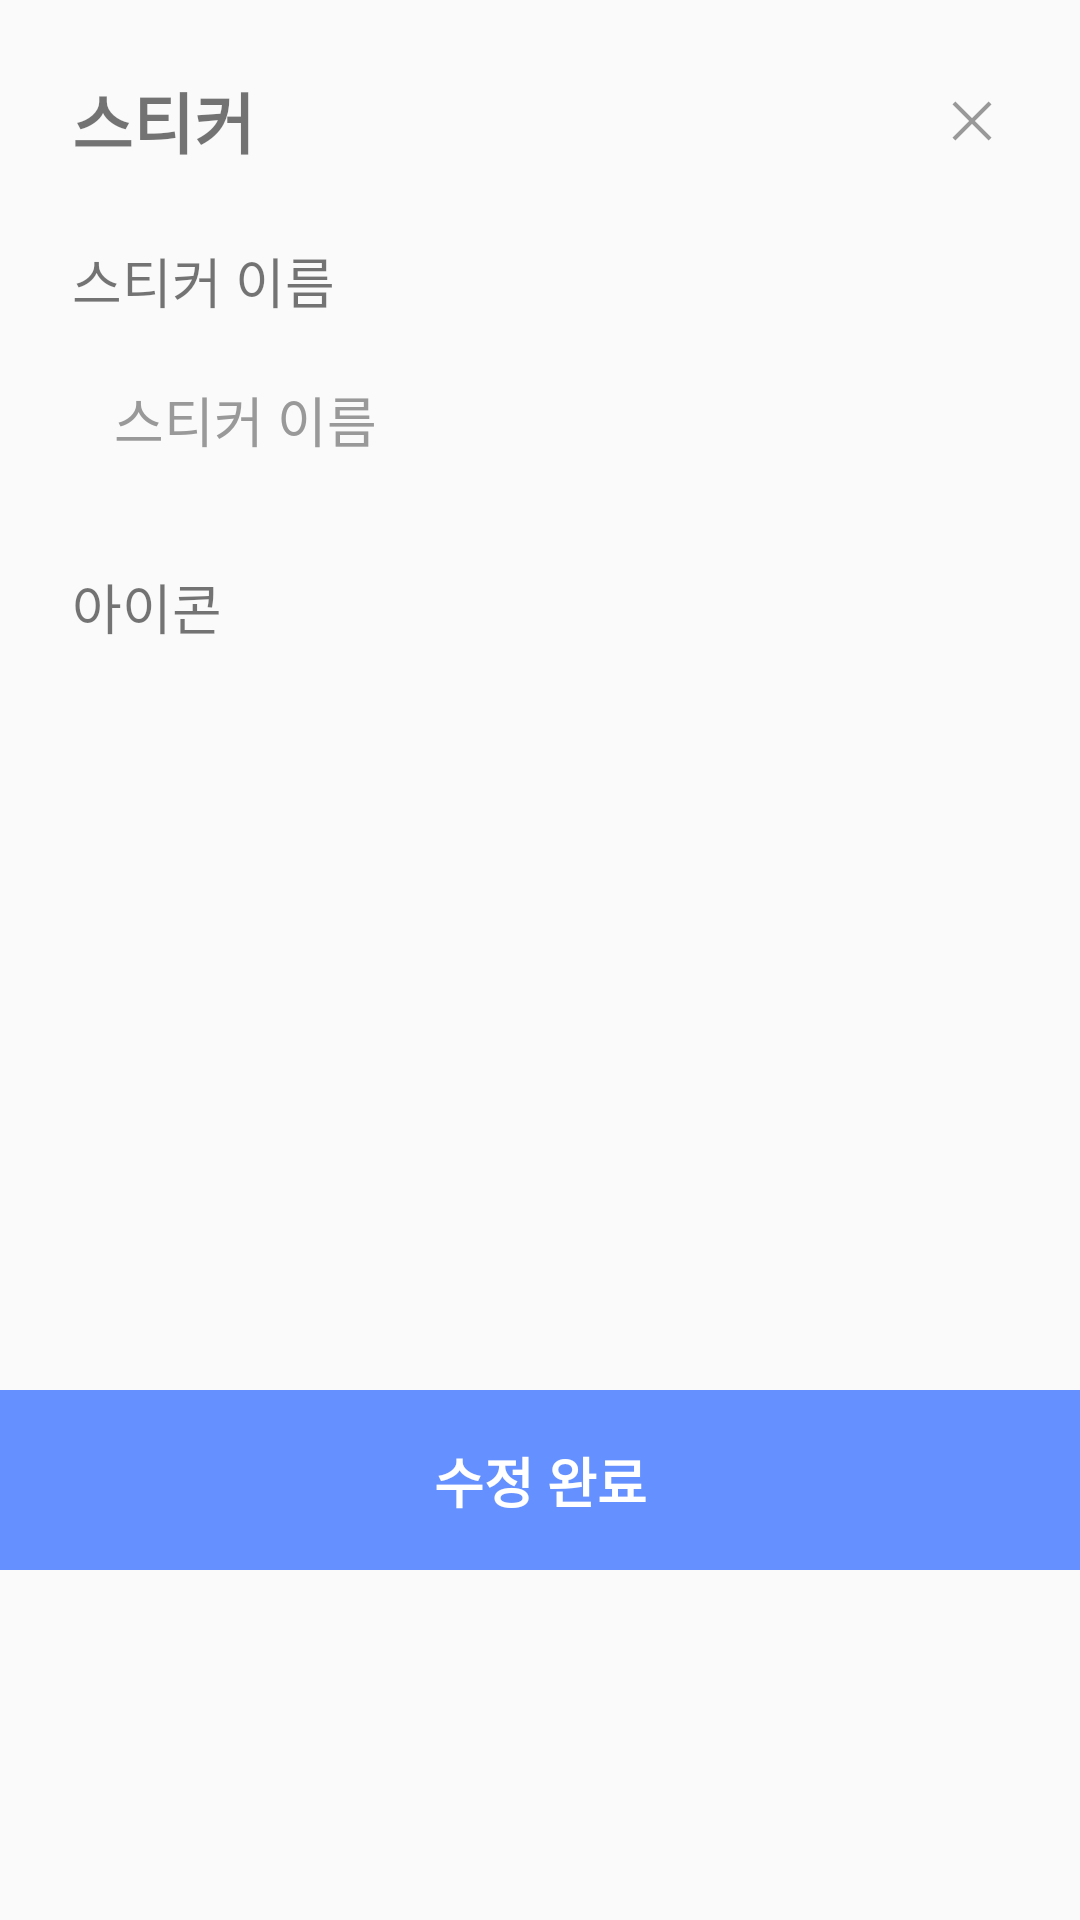

Where to tap for icons on this 1080*1920 app screen, as [x,y]:
close: [972,121]
